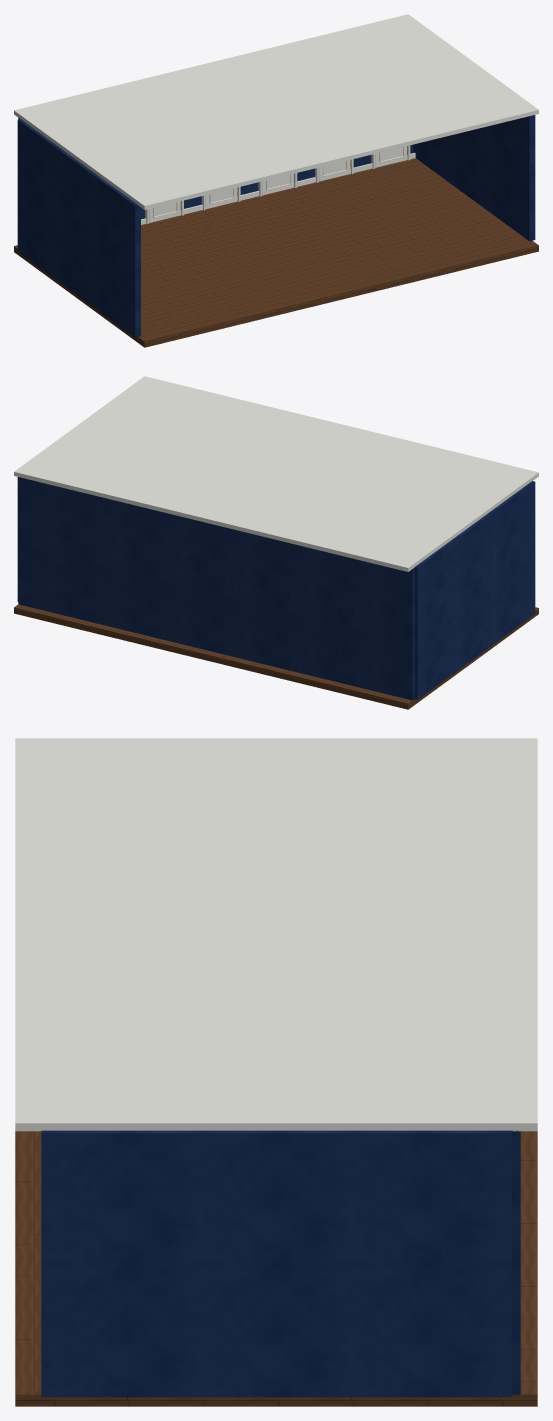
The model's file is hub.glb.
The picture shows the model from 3 angles, top to bottom: view 1: azimuth 30°, elevation 25°; view 2: azimuth 150°, elevation 25°; view 3: azimuth 270°, elevation 25°; orthographic projection. The views are drawn at different scales.
Parts seen in each view (by area): view 1: Static batch Ivory painted door, Hub floor, Static batch Blue textured paint; view 2: Static batch Blue textured paint, Static batch Ivory painted door, Hub floor; view 3: Static batch Ivory painted door, Static batch Blue textured paint, Hub floor.
Boxes of the visible parts, x1=… form: Static batch Ivory painted door: x1=14, y1=14, x2=538, y2=224; Hub floor: x1=14, y1=158, x2=538, y2=347; Static batch Blue textured paint: x1=17, y1=115, x2=535, y2=337; Static batch Blue textured paint: x1=17, y1=477, x2=535, y2=700; Static batch Ivory painted door: x1=14, y1=376, x2=538, y2=571; Hub floor: x1=14, y1=604, x2=538, y2=709; Static batch Ivory painted door: x1=15, y1=738, x2=537, y2=1131; Static batch Blue textured paint: x1=41, y1=1130, x2=520, y2=1397; Hub floor: x1=15, y1=1131, x2=537, y2=1406.
Bounding box in the file's own units: 12.38 × 4.19 × 7.
7 materials, 3 textured.
